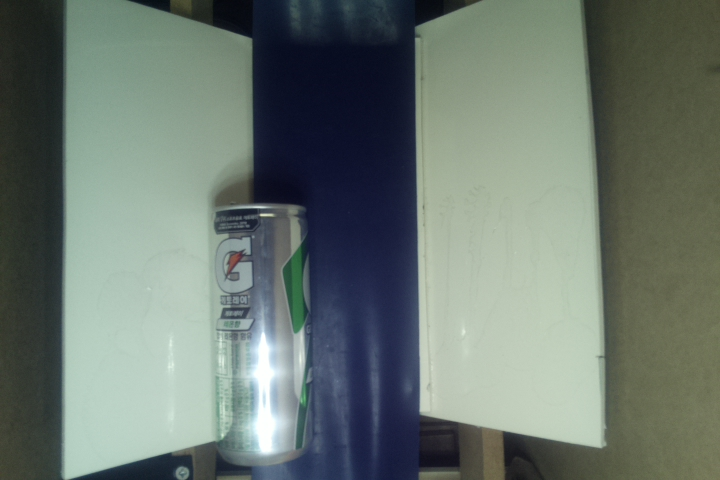can: (208, 201, 316, 465)
